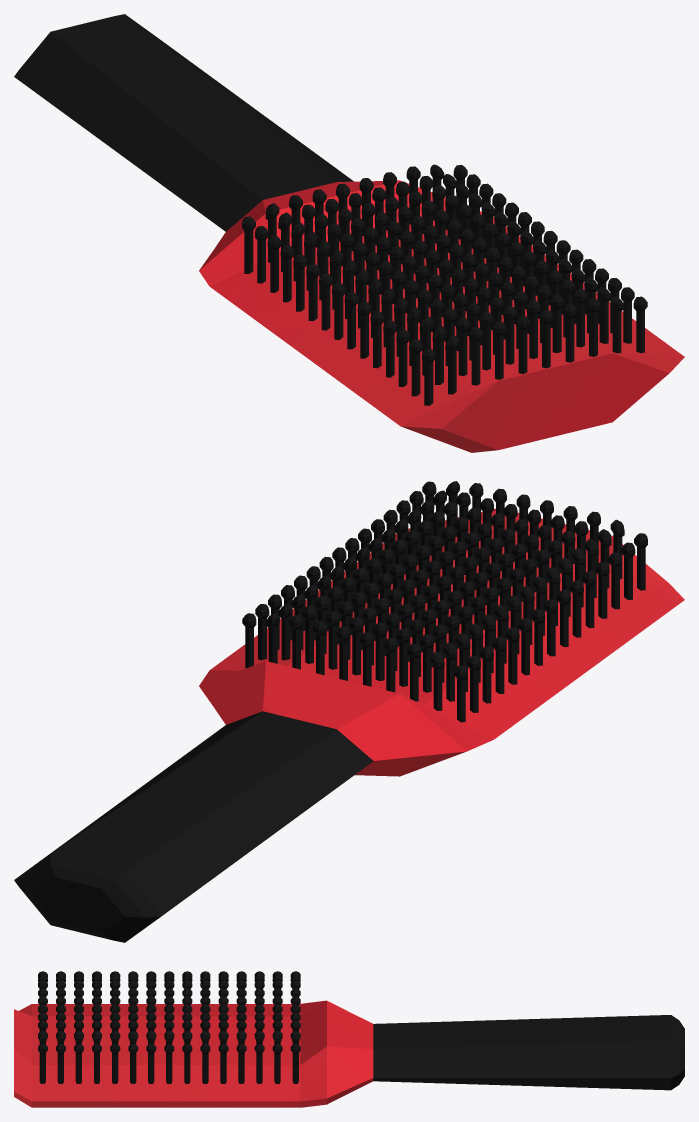
Rendered from hairBrush.fbx.
3 renders of one model, top to bottom at view 1: azimuth 30°, elevation 25°; view 2: azimuth 150°, elevation 25°; view 3: azimuth 270°, elevation 25°, orthographic. The views are drawn at different scales.
Parts seen in each view (by area): view 1: hairBrush; view 2: hairBrush; view 3: hairBrush.
Boxes of the visible parts, bbox=[...] form: hairBrush: bbox=[14, 14, 684, 452]; hairBrush: bbox=[14, 481, 684, 942]; hairBrush: bbox=[14, 971, 684, 1107].
Size of the model in its own units: 0.0945 by 0.0372 by 0.2749.
